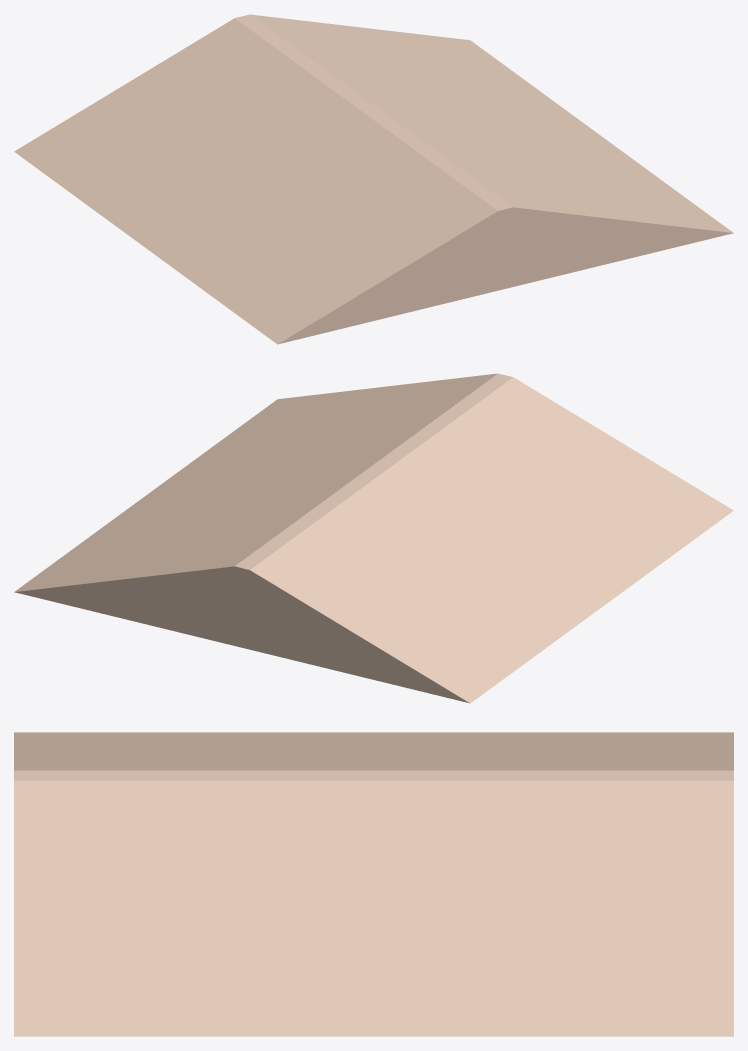
File: greek_roof_1_square.fbx
3 renders of one model, top to bottom at view 1: azimuth 30°, elevation 25°; view 2: azimuth 150°, elevation 25°; view 3: azimuth 270°, elevation 25°, orthographic. The views are drawn at different scales.
Parts seen in each view (by area): view 1: Cube.018; view 2: Cube.018; view 3: Cube.018.
Boxes of the visible parts, box(x1,y1,x2,y2) form: Cube.018: box(14, 14, 733, 344); Cube.018: box(14, 373, 733, 703); Cube.018: box(14, 732, 733, 1036).
Bounding box in the file's own units: 1200 × 200 × 1200.
